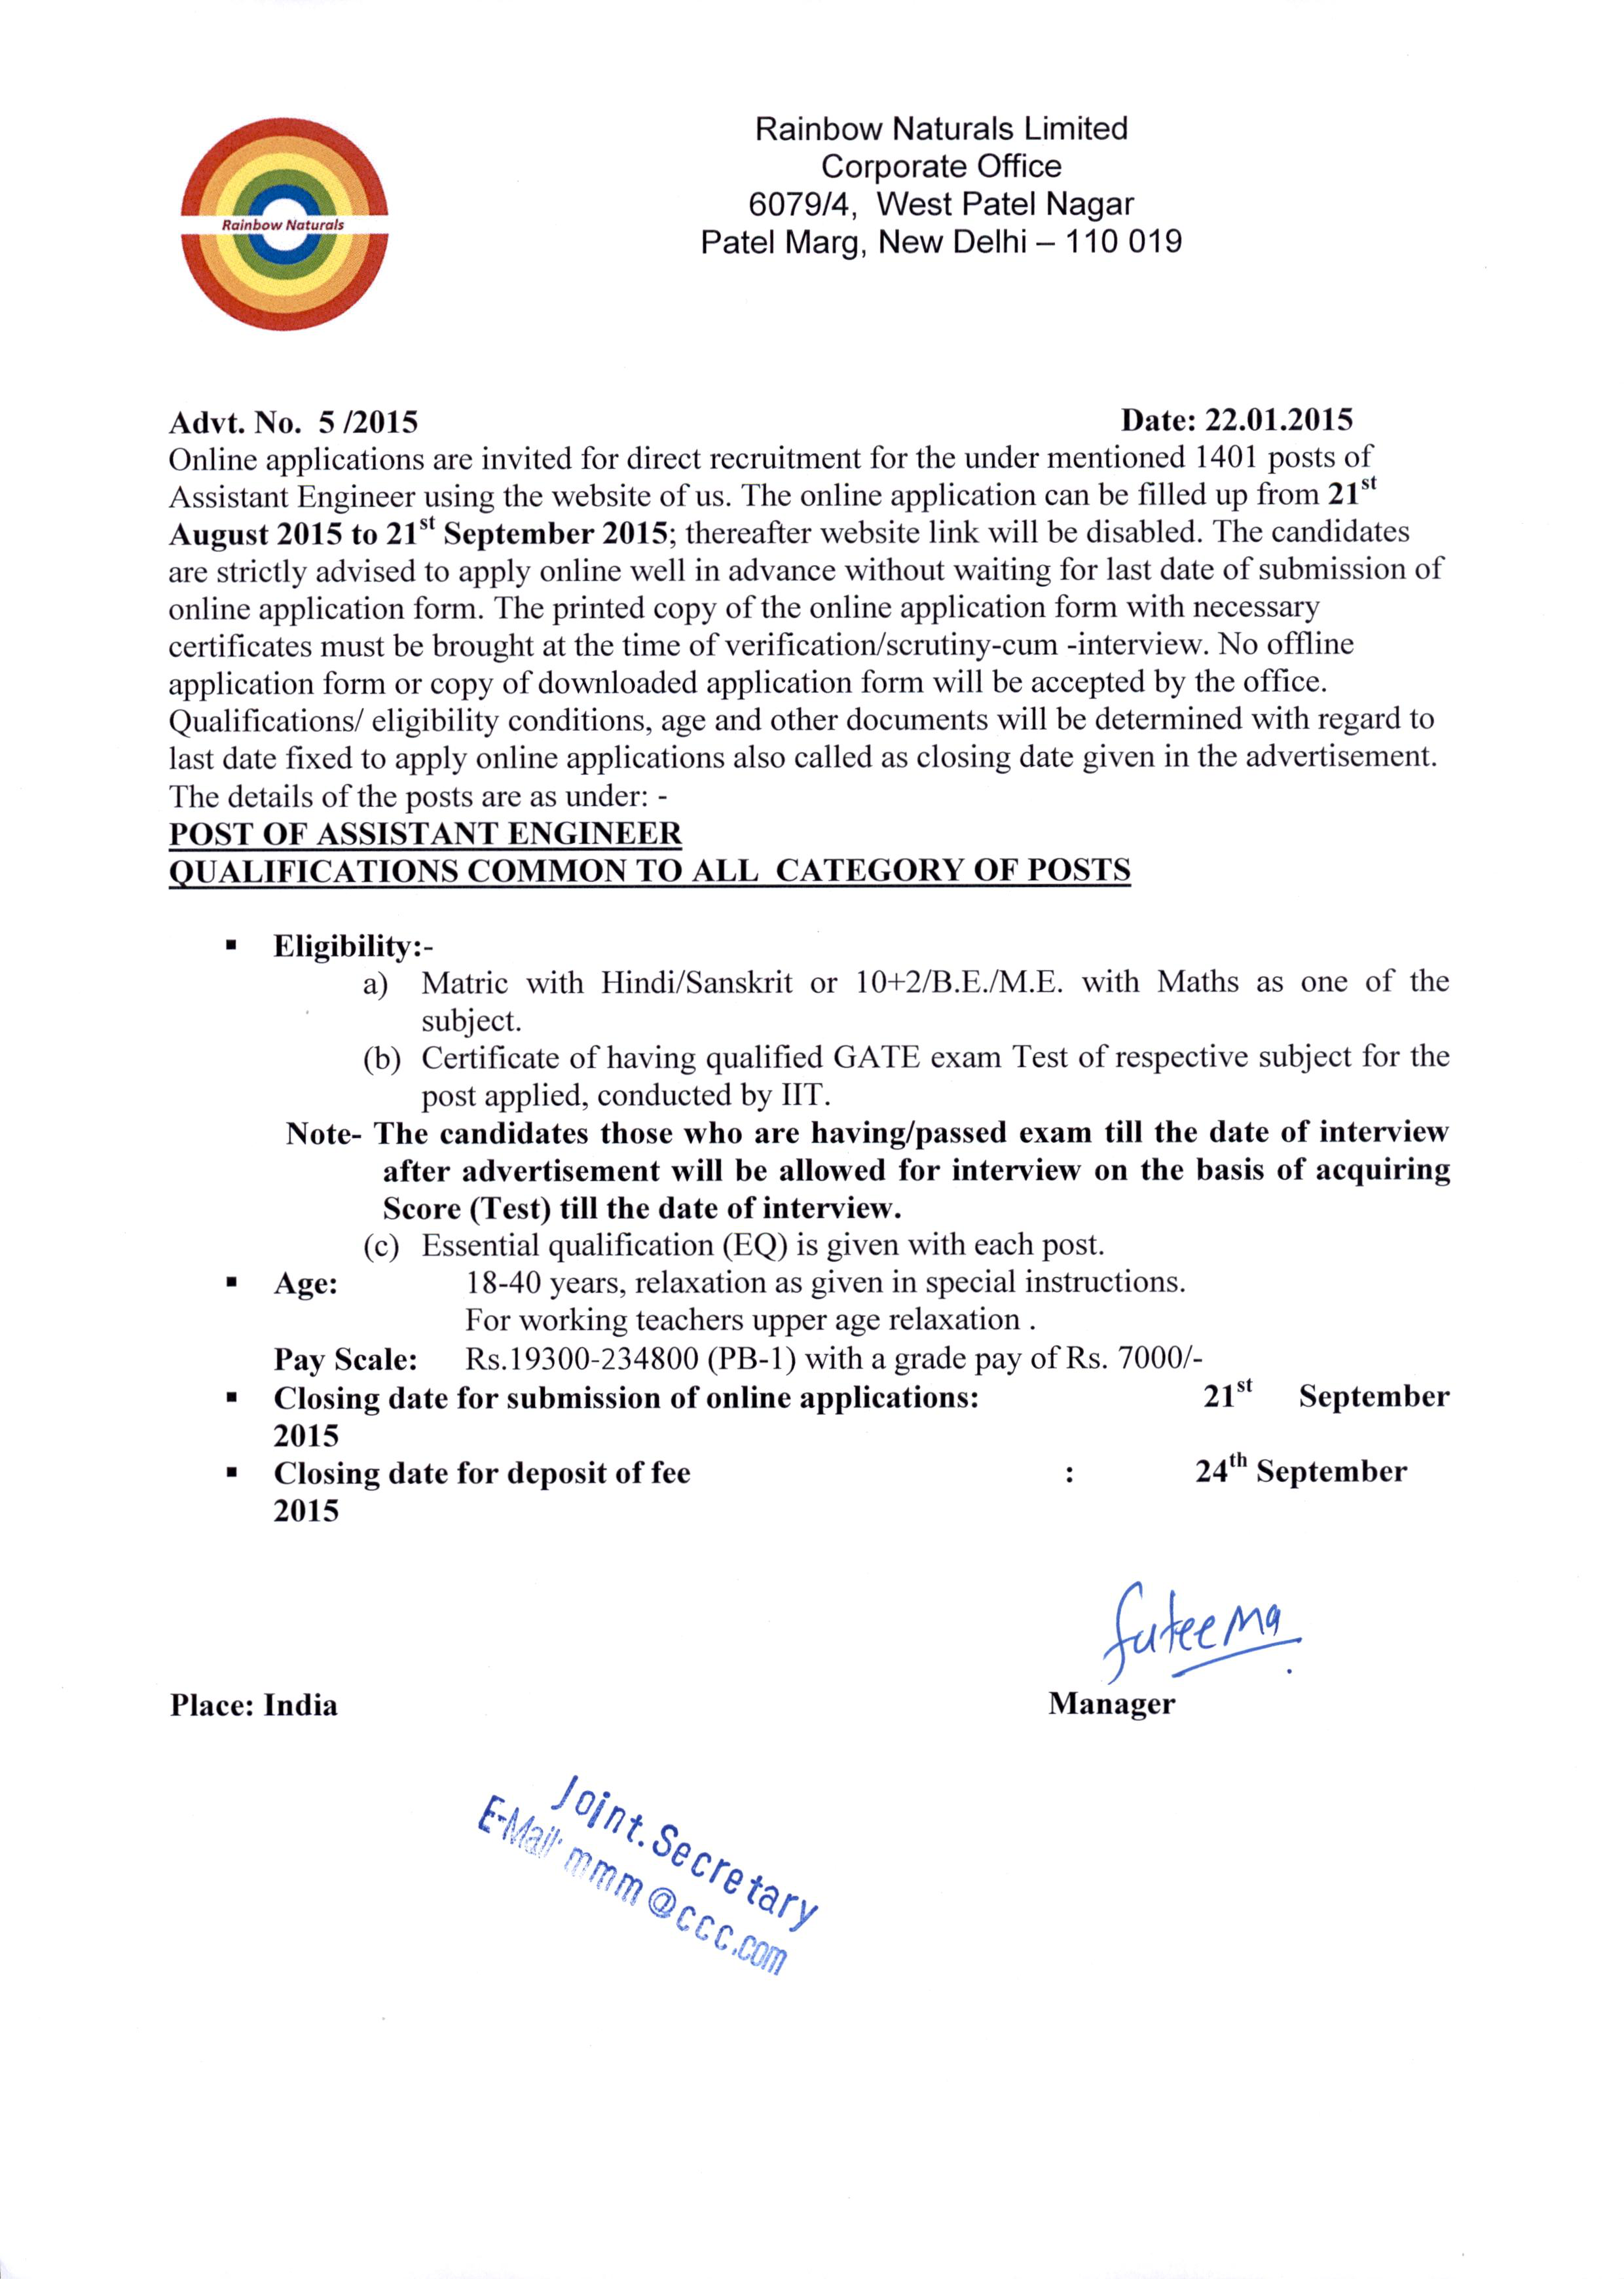Signature: (1095, 1574, 1313, 1692)
